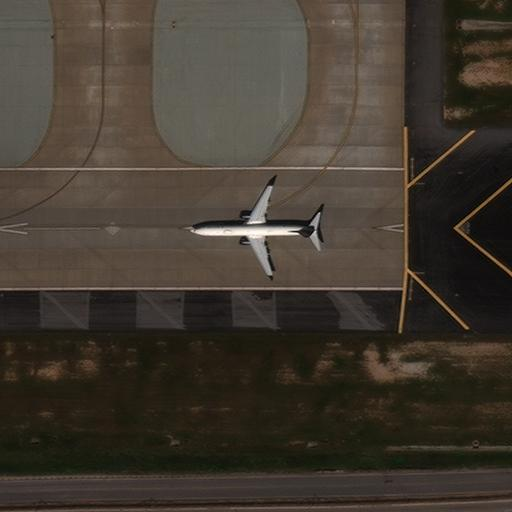Medium Civil Transport: (188, 186, 320, 276)
